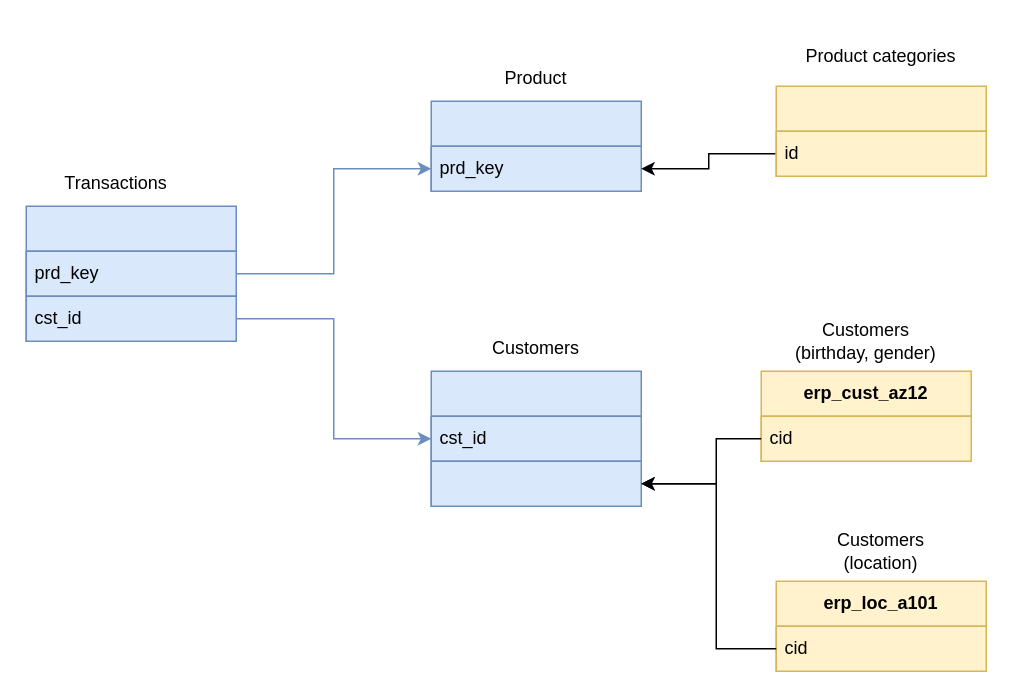
Image size: 1013x698. Some labels were removed from this diagram. Each missing label, with the box of its shape:
crm_cust_info: (430, 370, 641, 506)
crm_prd_info: (430, 100, 641, 191)
crm_sales_details: (25, 205, 236, 341)
cst_key: (430, 460, 641, 506)
erp_px_cat_g1v2: (775, 85, 986, 176)
